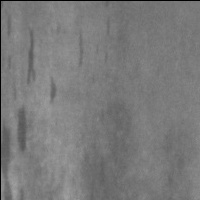inclusion: (158, 130, 186, 194), (85, 132, 112, 197), (91, 9, 114, 68), (13, 100, 33, 162), (3, 52, 26, 102), (22, 25, 40, 87), (72, 25, 89, 69), (45, 74, 63, 106), (2, 8, 17, 44)
